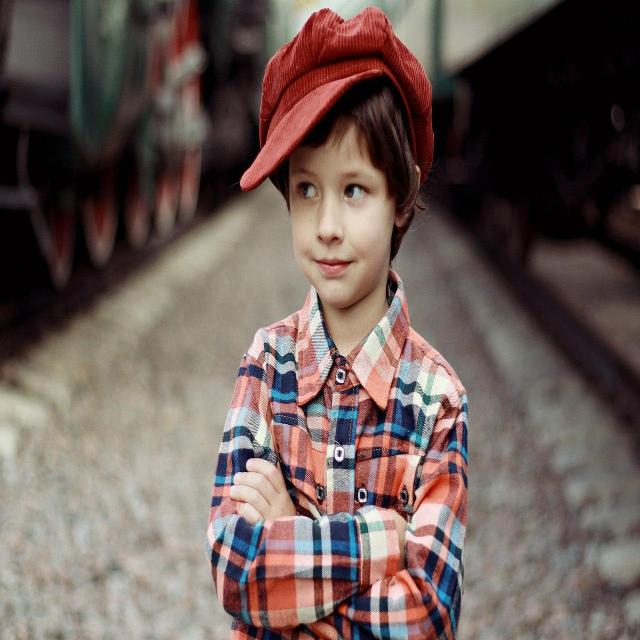person: (192, 6, 475, 626)
